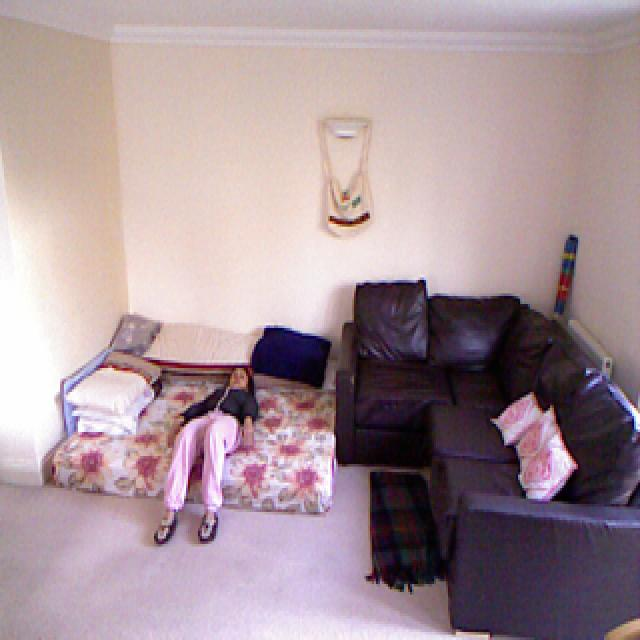lying: (156, 364, 258, 544)
